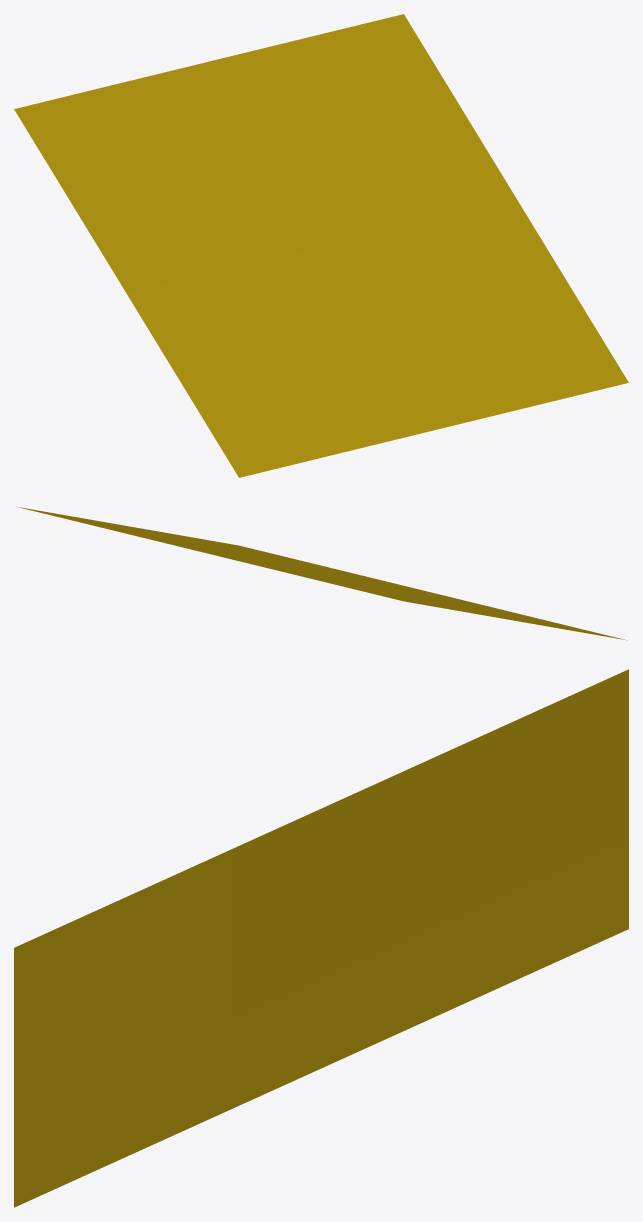
Rendered from slope.gltf.
3 views of the same model, one above another, from view 1: azimuth 30°, elevation 25°; view 2: azimuth 150°, elevation 25°; view 3: azimuth 270°, elevation 25° (orthographic). The views are drawn at different scales.
Visible parts, largest first — view 1: slope; view 2: slope; view 3: slope.
Part boxes in pixels (<box>): slope: <box>14,14,628,477</box>; slope: <box>16,506,626,640</box>; slope: <box>14,669,628,1207</box>.
Size of the model in its own units: 4 by 2 by 4.
